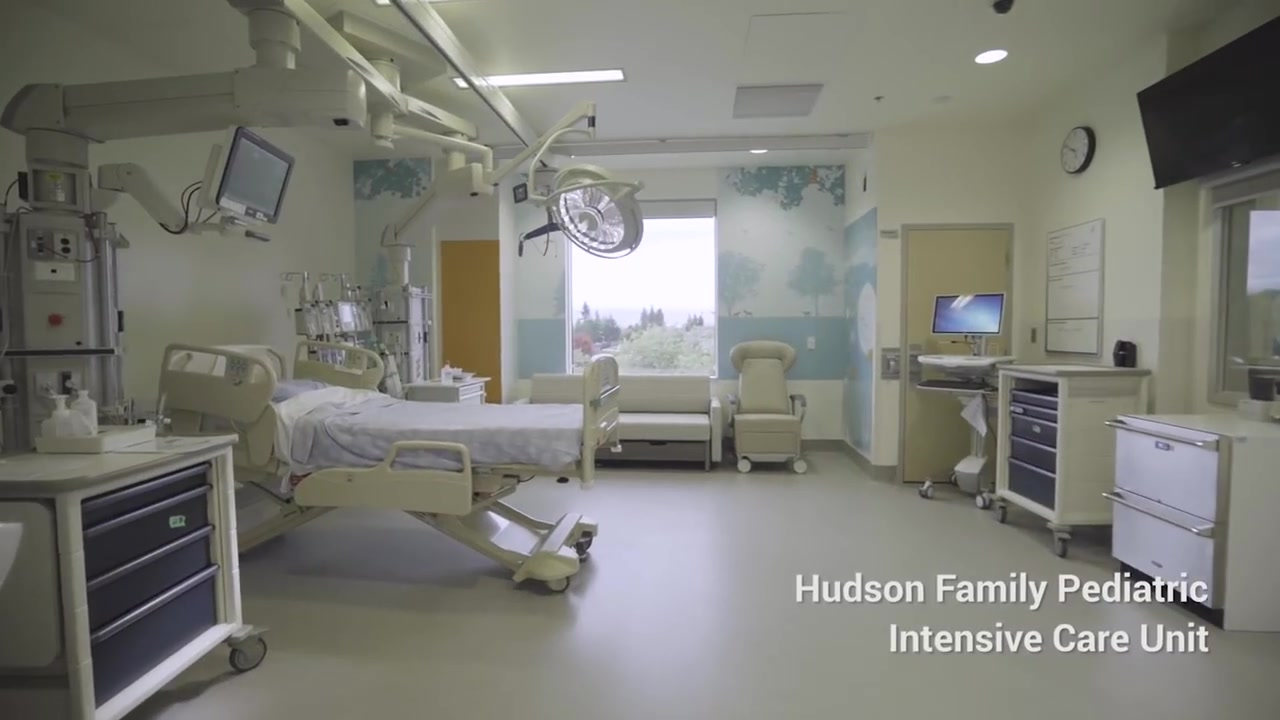TV: (1136, 15, 1280, 190)
bedrail: (294, 440, 472, 516), (156, 343, 276, 424), (293, 340, 384, 391), (170, 343, 287, 381)
bedside_monitor: (215, 126, 296, 224)
bedside_table: (403, 377, 492, 405)
chair: (725, 339, 807, 474)
computer: (929, 292, 1006, 336)
dispenser: (36, 389, 77, 449)
door_handle: (910, 352, 922, 373)
foot_board: (582, 353, 620, 450)
handle: (1101, 492, 1215, 538), (1104, 420, 1222, 453), (1153, 440, 1174, 451)
hospital_bed: (156, 340, 620, 592)
infusion_pump: (295, 301, 337, 336), (333, 300, 372, 333)
iv_pole: (319, 272, 355, 342), (279, 272, 315, 340)
keyboard: (921, 379, 986, 390)
medical_drawer: (1, 434, 268, 720), (994, 361, 1152, 558)
mouse: (984, 386, 998, 392)
sofa: (529, 373, 721, 471)
surgical_light: (549, 164, 643, 259)
table: (1106, 391, 1273, 637)
